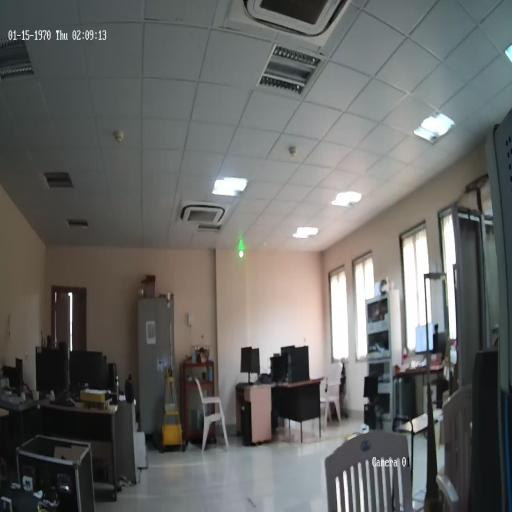laser: (239, 250, 244, 259)
